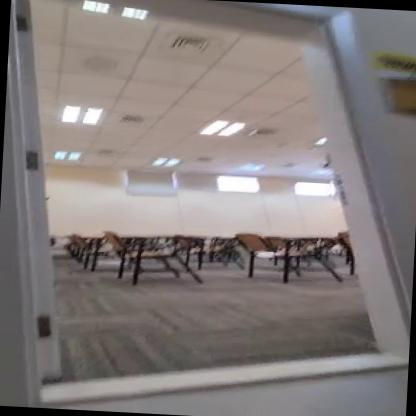open: (0, 0, 374, 409)
